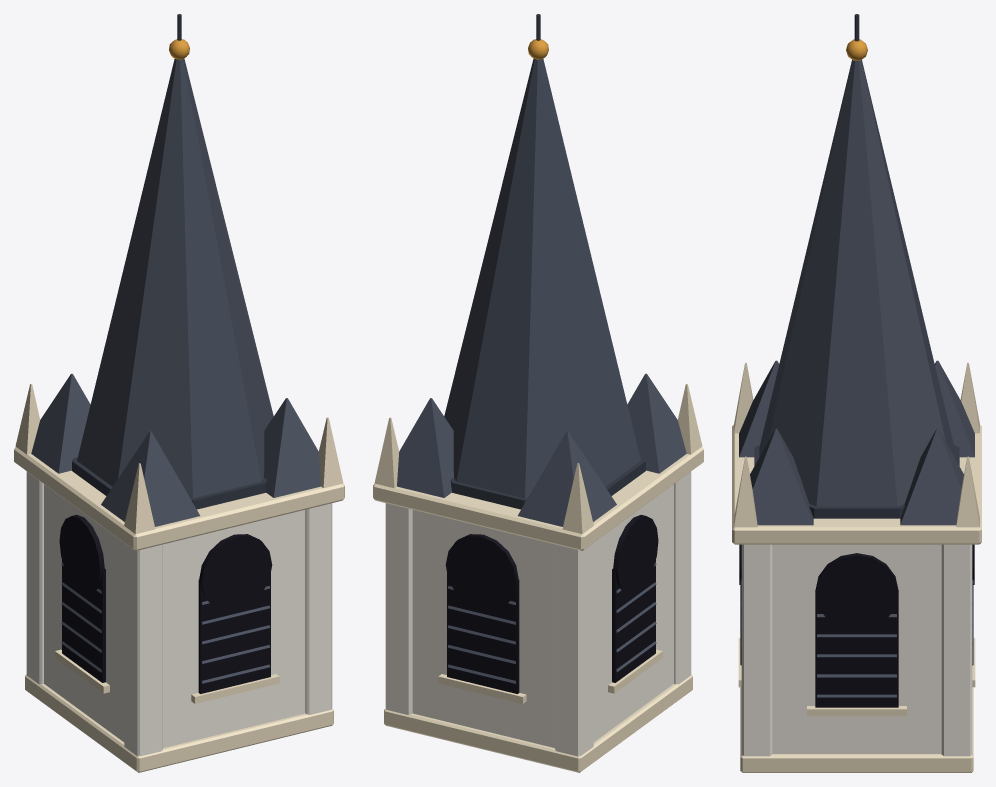
The model's file is spire.glb.
3 renders of one model, left to right at view 1: azimuth 30°, elevation 25°; view 2: azimuth 150°, elevation 25°; view 3: azimuth 270°, elevation 25°, orthographic. The views are drawn at different scales.
Parts seen in each view (by area): view 1: spire; view 2: spire; view 3: spire.
Part boxes in pixels (x1,y1,x2,y2): spire: [14, 14, 344, 772]; spire: [373, 14, 703, 772]; spire: [732, 14, 981, 772].
Bounding box in the file's own units: 4.47 × 14 × 4.47.
2 materials, 2 textured.
